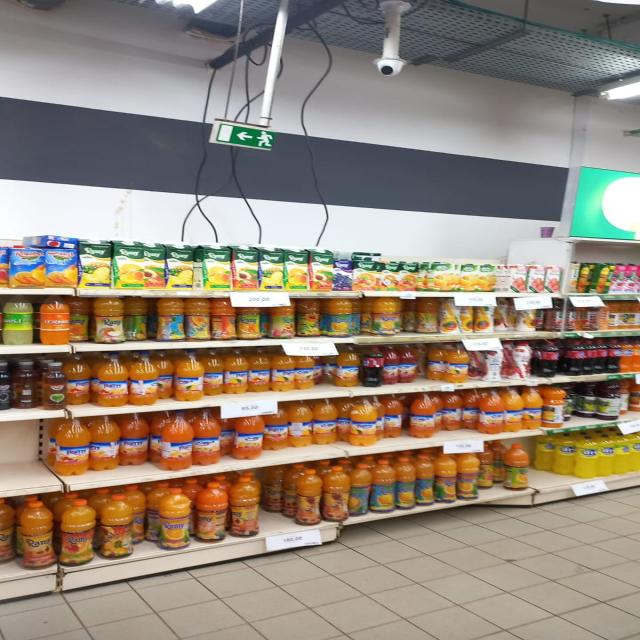ramy_carton: (111, 241, 163, 289), (198, 245, 232, 291), (80, 243, 112, 290), (258, 248, 288, 292), (304, 250, 335, 292), (352, 259, 384, 293), (387, 261, 417, 294), (573, 262, 601, 294), (429, 262, 454, 292), (458, 263, 482, 292), (544, 265, 562, 293)
ramy_plastique: (16, 499, 56, 569), (56, 499, 96, 567), (96, 495, 134, 560), (54, 416, 91, 476), (157, 489, 192, 550), (194, 482, 228, 543), (228, 476, 260, 536), (116, 412, 149, 467), (97, 353, 129, 407), (128, 352, 159, 407), (190, 410, 220, 465), (321, 466, 349, 524), (295, 468, 322, 526), (233, 410, 264, 460), (62, 355, 92, 406), (370, 460, 396, 516), (176, 351, 204, 402), (96, 298, 125, 346), (157, 297, 186, 344), (349, 400, 378, 446), (409, 392, 438, 438), (537, 384, 566, 428), (504, 442, 530, 490), (478, 388, 505, 434), (311, 398, 338, 444), (12, 359, 37, 408), (286, 402, 313, 447), (456, 452, 480, 502), (434, 453, 457, 505), (223, 348, 249, 393), (372, 296, 401, 336), (324, 298, 353, 338), (594, 380, 622, 420), (209, 298, 235, 341), (294, 298, 320, 338), (272, 348, 296, 391), (336, 347, 361, 387), (235, 306, 262, 342), (446, 345, 470, 384), (416, 297, 440, 335)
rouiba_carton: (47, 245, 77, 290), (11, 246, 44, 286)
